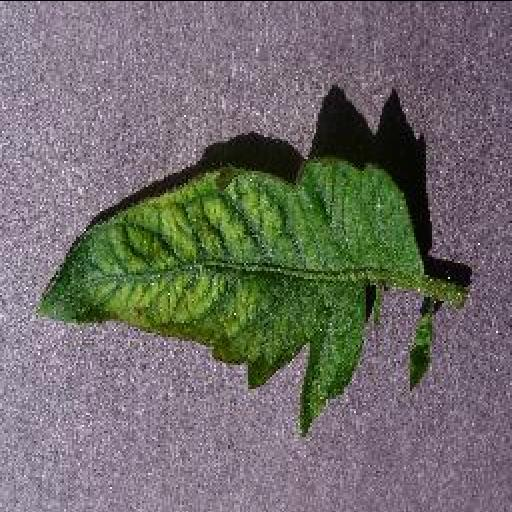Mosaic Virus: (40, 150, 422, 436)
